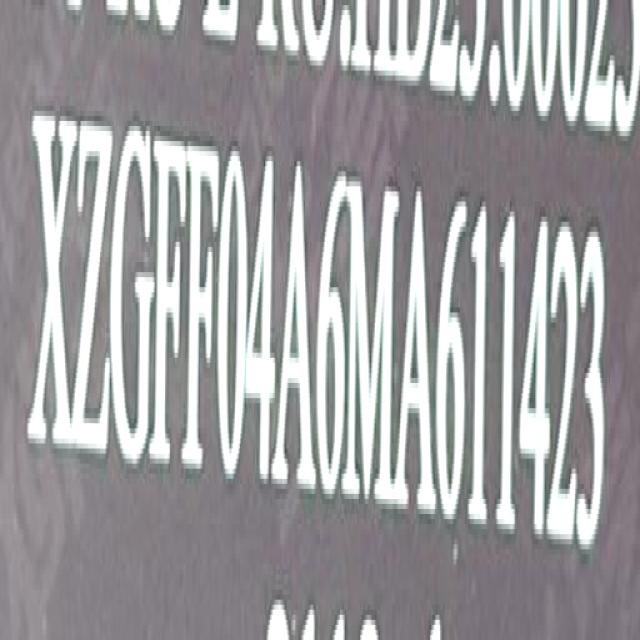0: (215, 150, 249, 488)
1: (495, 212, 519, 541), (469, 204, 492, 535)
2: (551, 230, 580, 552)
3: (575, 224, 606, 549)
4: (518, 210, 553, 544), (247, 143, 280, 491)
6: (315, 173, 351, 500), (435, 199, 469, 526)
A: (397, 192, 435, 522), (277, 162, 315, 492)
F: (152, 127, 186, 479), (187, 140, 220, 483)
G: (110, 123, 153, 474)
M: (350, 177, 399, 511)
X: (33, 108, 75, 464)
Z: (73, 117, 112, 467)
